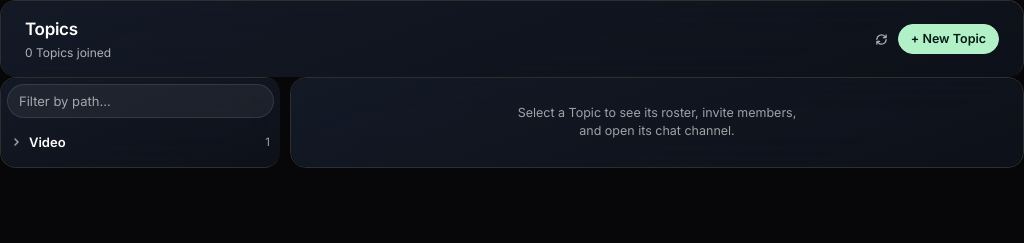
Test case: QURATOR-144 W2 — claimed count is detail-only and lazy › selecting an unjoined row fetches the count ONCE for that row and renders it in the DETAIL pane only
Click the button with class "root-header" at (47, 142), box x1=7 y1=124 x2=274 y2=161
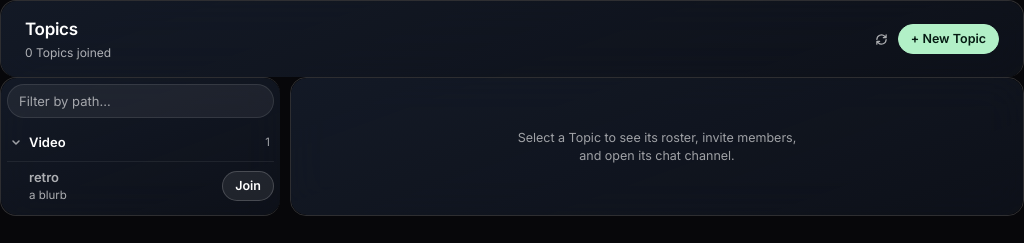
expect the text "retro" is shown: met, box x1=29 y1=169 x2=59 y2=185
Click the button with class "name" at (48, 195), box x1=7 y1=161 x2=274 y2=209
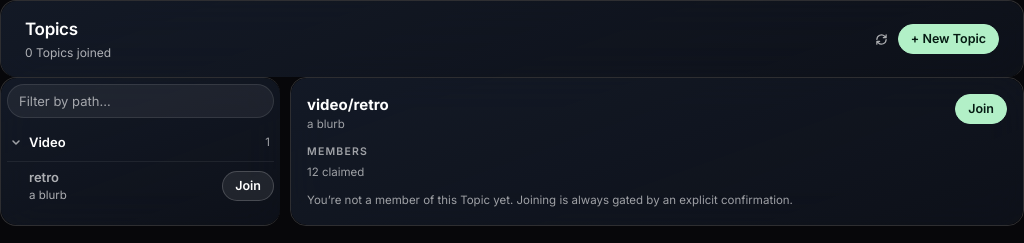
expect the text "12 claimed" is shown: met, box x1=307 y1=165 x2=364 y2=179
expect the text "roster" is gone: met
